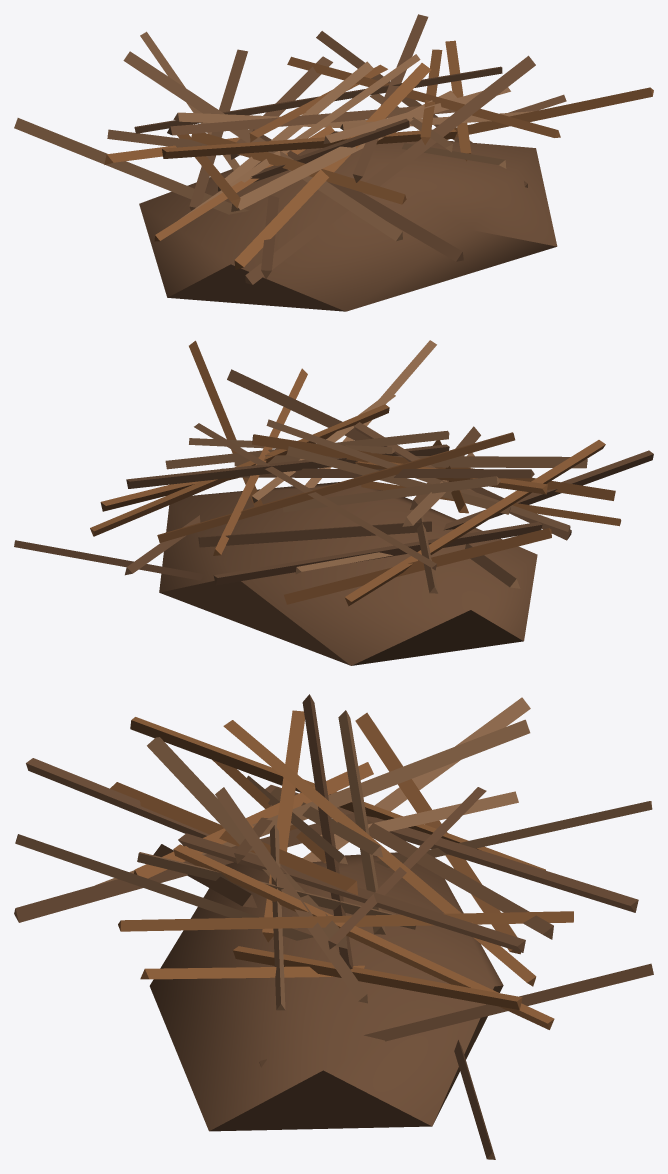
The model's file is brush_pile.glb.
The picture shows the model from 3 angles, top to bottom: view 1: azimuth 30°, elevation 25°; view 2: azimuth 150°, elevation 25°; view 3: azimuth 270°, elevation 25°; orthographic projection. The views are drawn at different scales.
Visible parts, largest first — view 1: brush_pile; view 2: brush_pile; view 3: brush_pile.
Part boxes in pixels (<box>): brush_pile: <box>14,14,653,311</box>; brush_pile: <box>14,340,653,665</box>; brush_pile: <box>14,694,653,1159</box>.
Bounding box in the file's own units: 3.01 × 0.97 × 2.45.
Materials: 1 (1 with a texture image).
